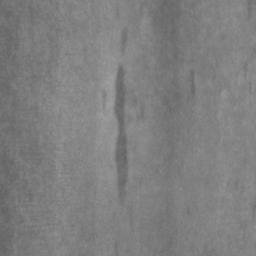Inclusion: (114, 67, 129, 196)
